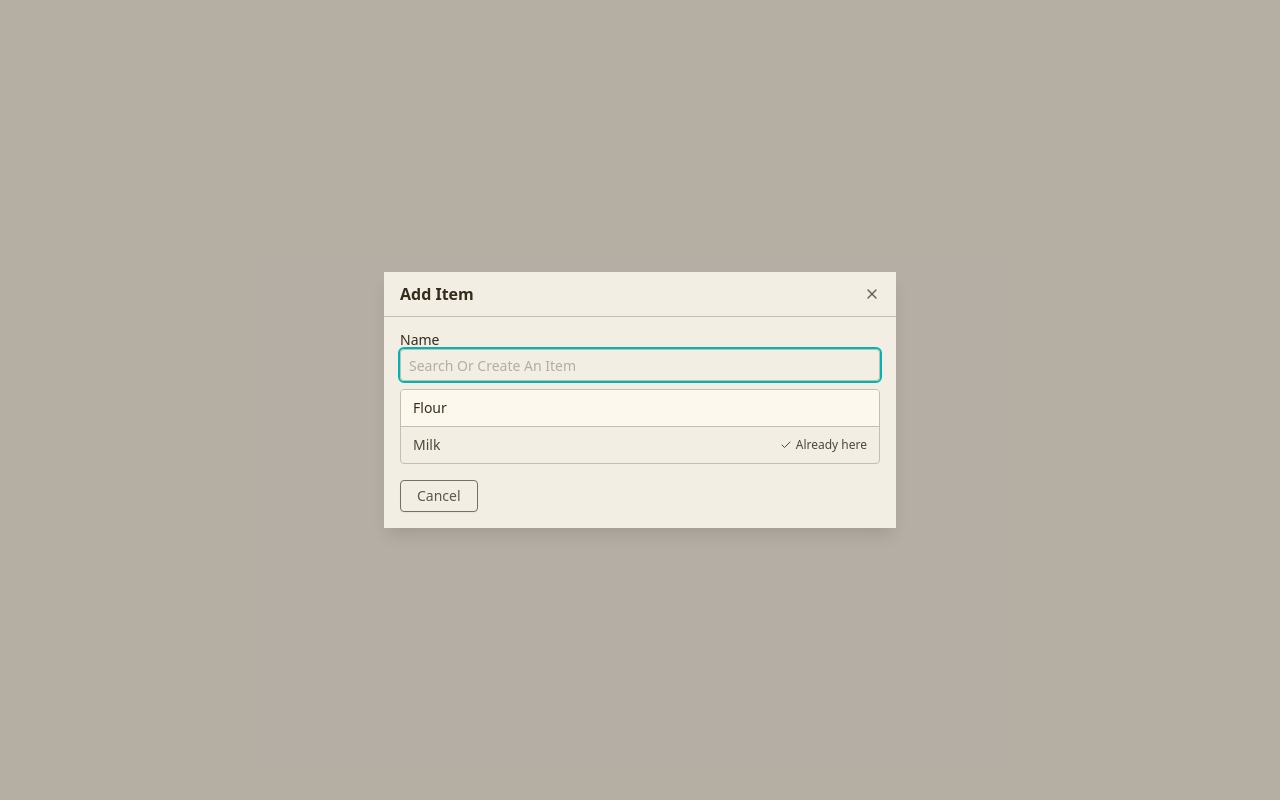
Test: NewItemDialog — cloud mode › user typing the name of an item already stocked here is told where it is
This screenshot has width=1280, height=800.
// When the user types that exact name
Type "Milk" into the dropdown labelled "Name" at (640, 365), box [400,349,880,381]
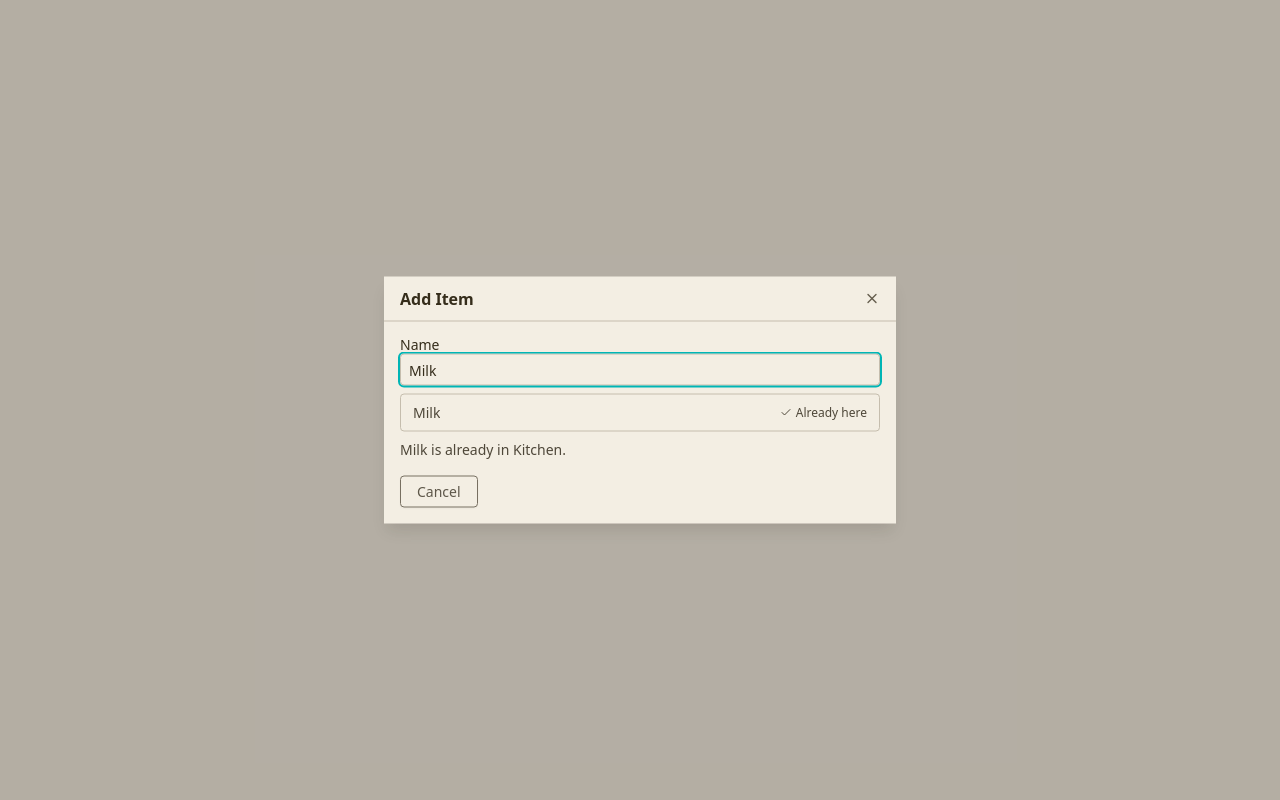
Expected: the option "create" is not shown
Expected: the text "Milk is already in Kitchen." is shown, [400,440,566,458]
